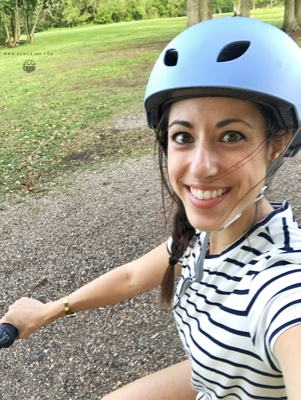helmet: (135, 13, 301, 233)
